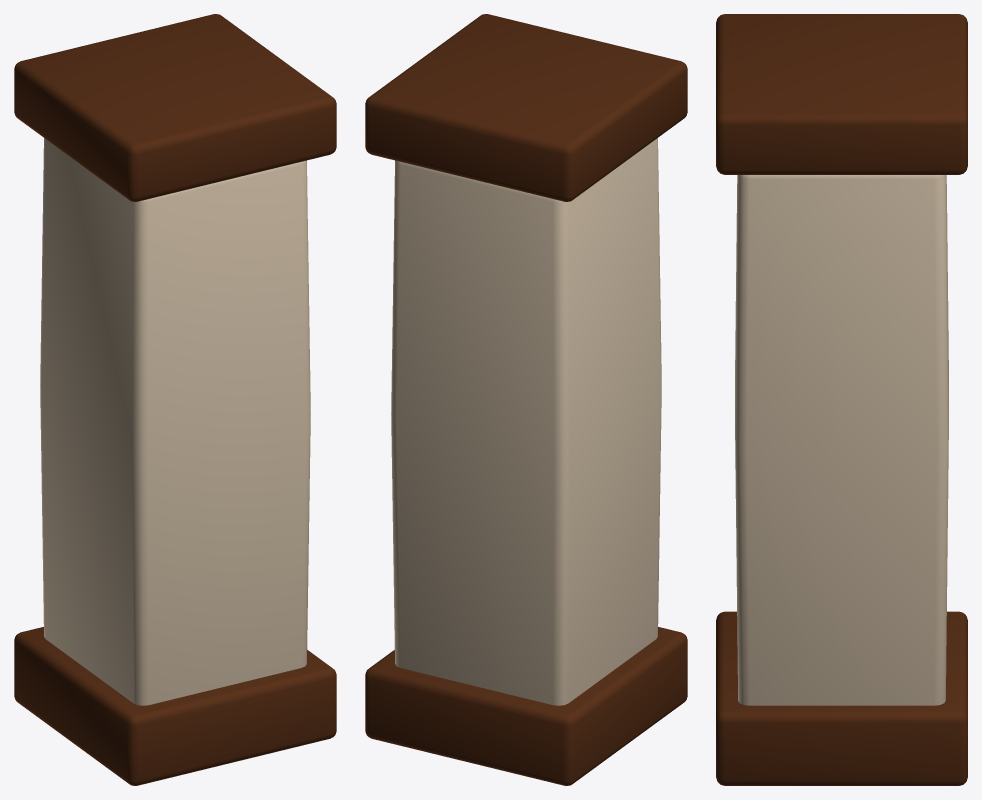
The model's file is column.gltf.
3 renders of one model, left to right at view 1: azimuth 30°, elevation 25°; view 2: azimuth 150°, elevation 25°; view 3: azimuth 270°, elevation 25°, orthographic. The views are drawn at different scales.
Visible parts, largest first — view 1: ColPlinth; view 2: ColPlinth; view 3: ColPlinth.
Part boxes in pixels (box(x1,y1,x2,y2)): ColPlinth: box(14, 14, 336, 785); ColPlinth: box(365, 14, 687, 785); ColPlinth: box(716, 14, 967, 785).
Bounding box in the file's own units: 0.34 × 1 × 0.34.
